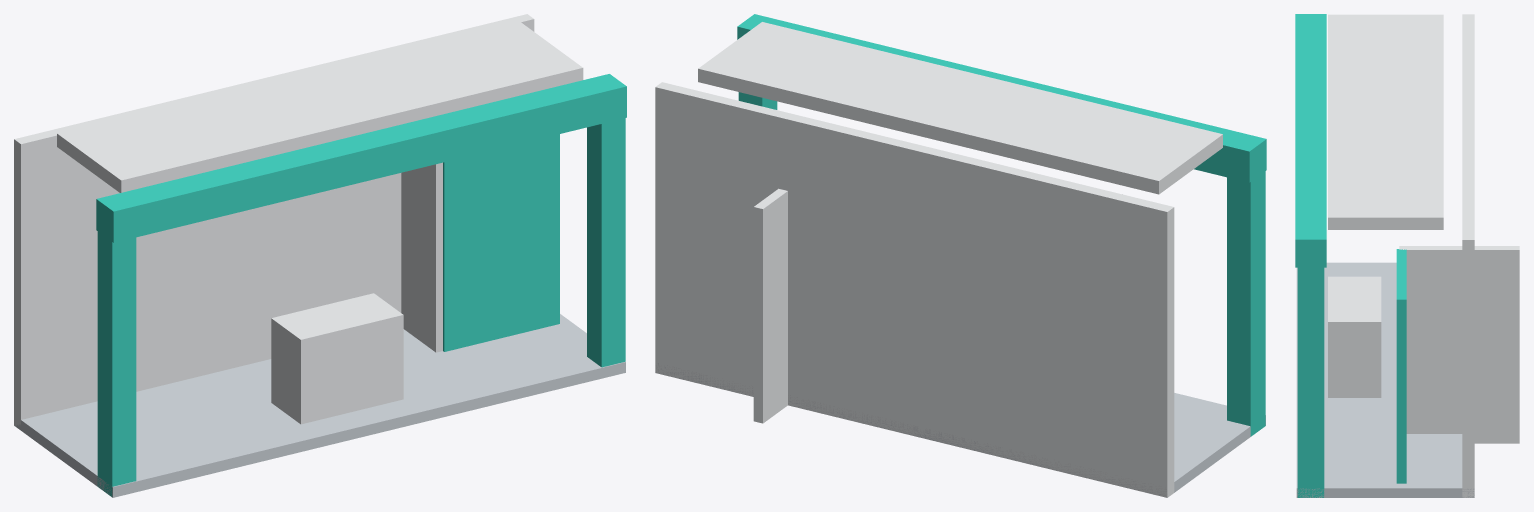
3 renders of one model, left to right at view 1: azimuth 30°, elevation 25°; view 2: azimuth 150°, elevation 25°; view 3: azimuth 270°, elevation 25°, orthographic. The views are drawn at different scales.
Visible parts, largest first — view 1: Exhibition Booth Concept; view 2: Exhibition Booth Concept; view 3: Exhibition Booth Concept.
Boxes of the visible parts, x1=… form: Exhibition Booth Concept: x1=14, y1=14, x2=626, y2=497; Exhibition Booth Concept: x1=655, y1=14, x2=1266, y2=497; Exhibition Booth Concept: x1=1295, y1=14, x2=1519, y2=497.
Size of the model in its own units: 6 by 3.34 by 2.52.
